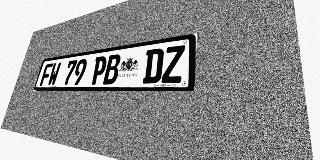7: (62, 60, 78, 85)
9: (72, 58, 88, 85)
B: (103, 54, 122, 84)
D: (142, 48, 164, 84)
F: (39, 63, 53, 86)
P: (90, 56, 108, 85)
W: (47, 62, 61, 86)
Z: (161, 45, 185, 83)
